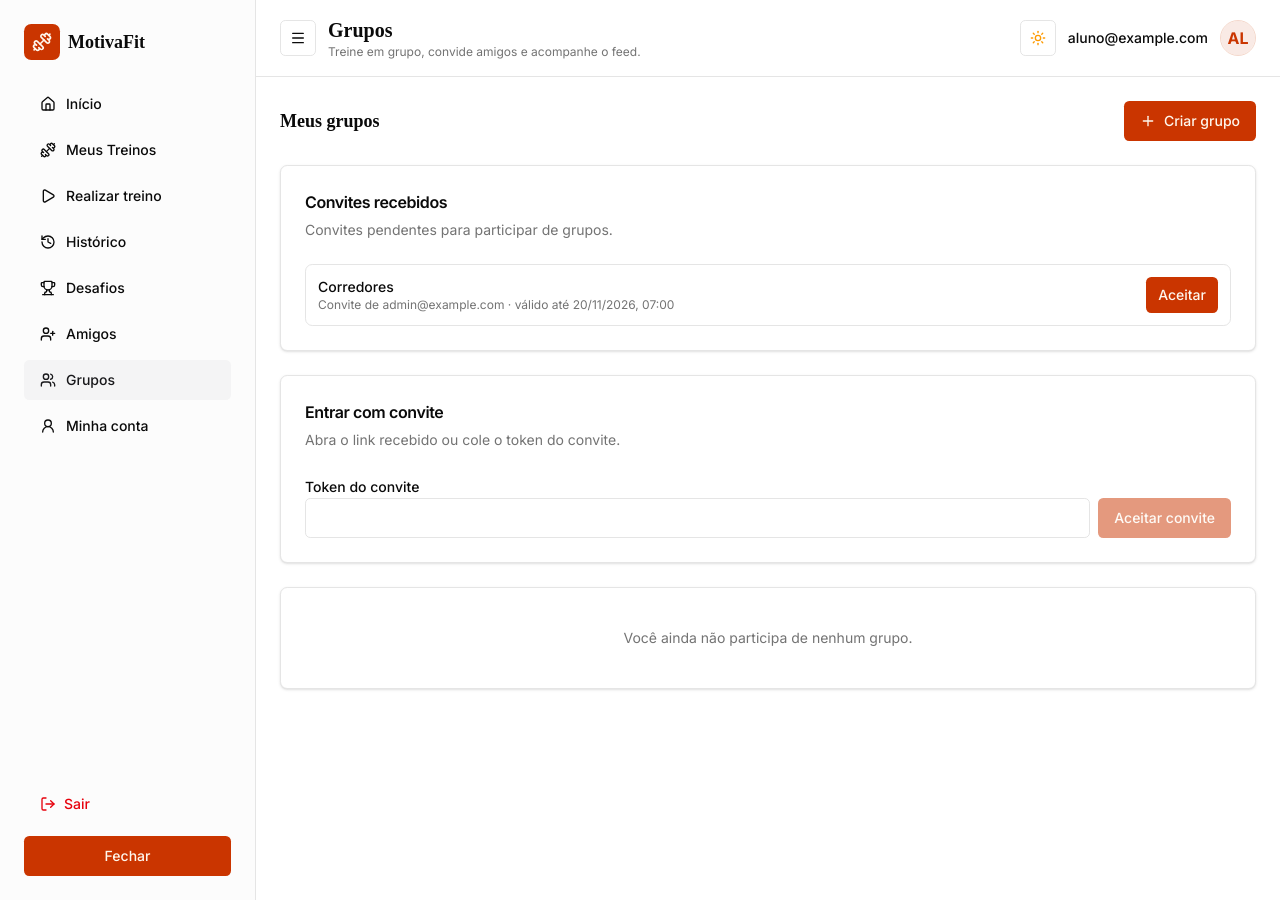
Test case: grupos › lista convites recebidos e aceita pelo botão
Expected: the text "Convite de admin@example.com · válido até 20/11/2026, 07:00" is shown, 318,297 -> 674,313
What coordinates should you click on to do the following:
click the button with aria-label "Aceitar convite para Corredores"
I would click on:
 (1182, 295)
Its box is 1146,277 -> 1218,313.
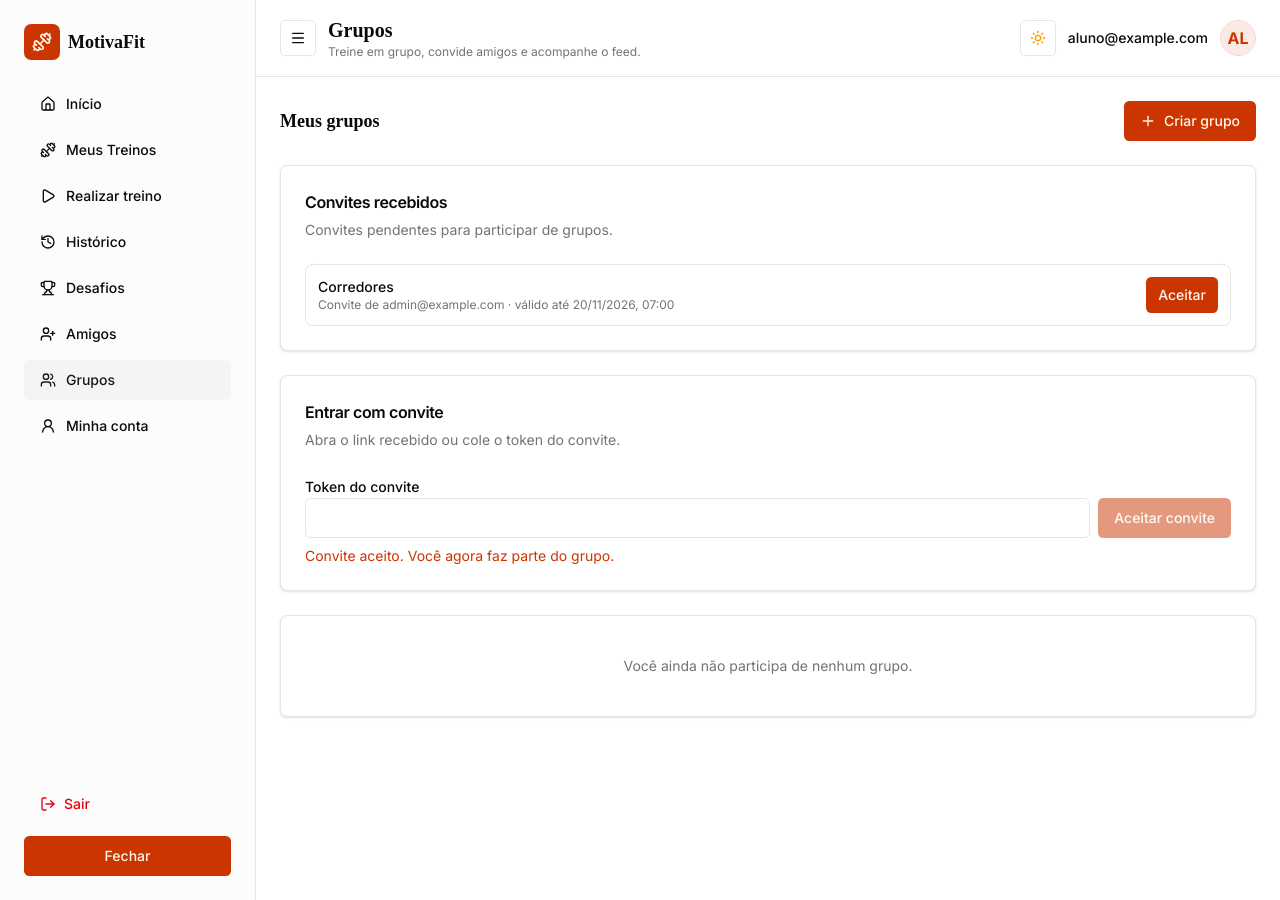
Now the text "Convite aceito. Você agora faz parte do grupo." is shown, box 305,547 -> 614,564
